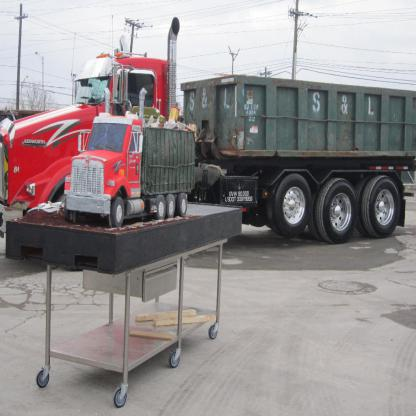Truck: (0, 15, 415, 245), (64, 87, 195, 228)
